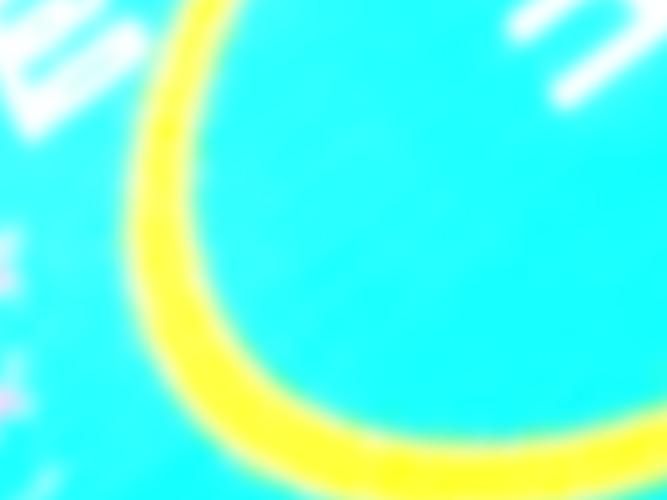Apron: (156, 14, 647, 467)
